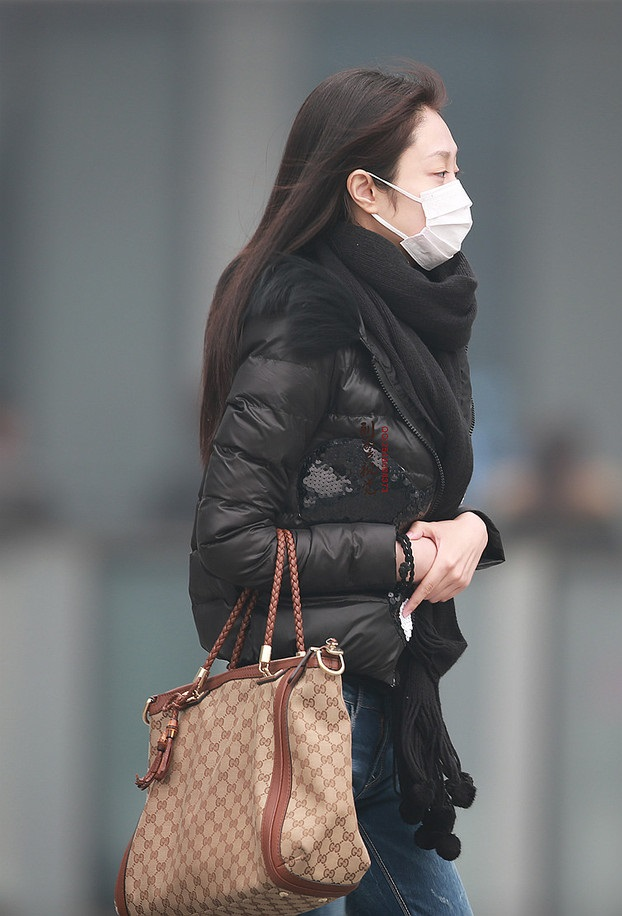face_mask: (402, 108, 475, 265)
